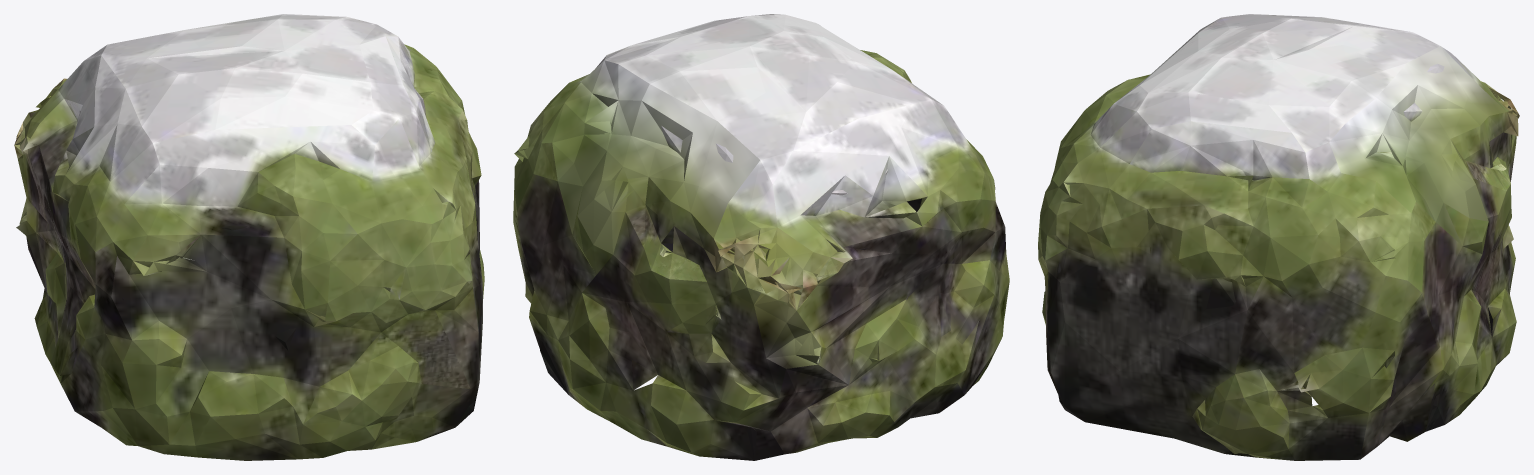
Rendered from rock.glb.
The picture shows the model from 3 angles, left to right: view 1: azimuth 30°, elevation 25°; view 2: azimuth 150°, elevation 25°; view 3: azimuth 270°, elevation 25°; orthographic projection.
Parts seen in each view (by area): view 1: rock; view 2: rock; view 3: rock.
Part boxes in pixels (x1=…): rock: x1=14, y1=14, x2=484, y2=460; rock: x1=513, y1=14, x2=1009, y2=460; rock: x1=1038, y1=14, x2=1519, y2=460.
Size of the model in its own units: 1.2 by 0.9001 by 1.21.
Materials: 1 (1 with a texture image).
